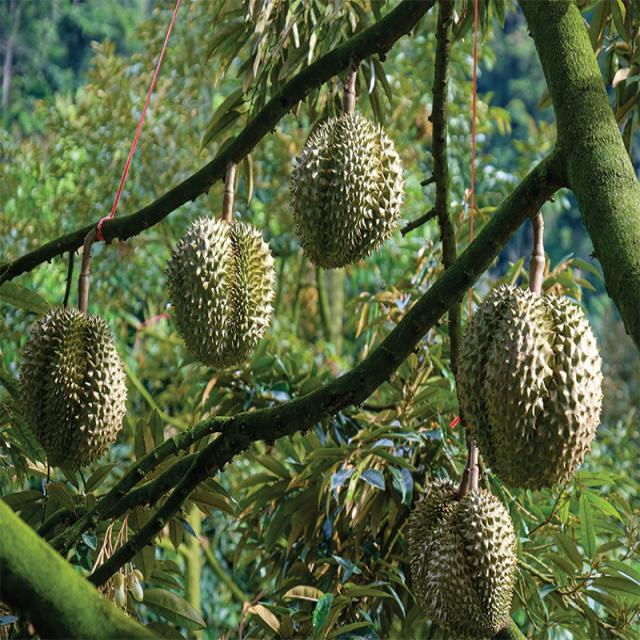immature: (450, 282, 607, 499), (288, 110, 410, 271), (160, 212, 278, 373), (19, 307, 131, 473)
